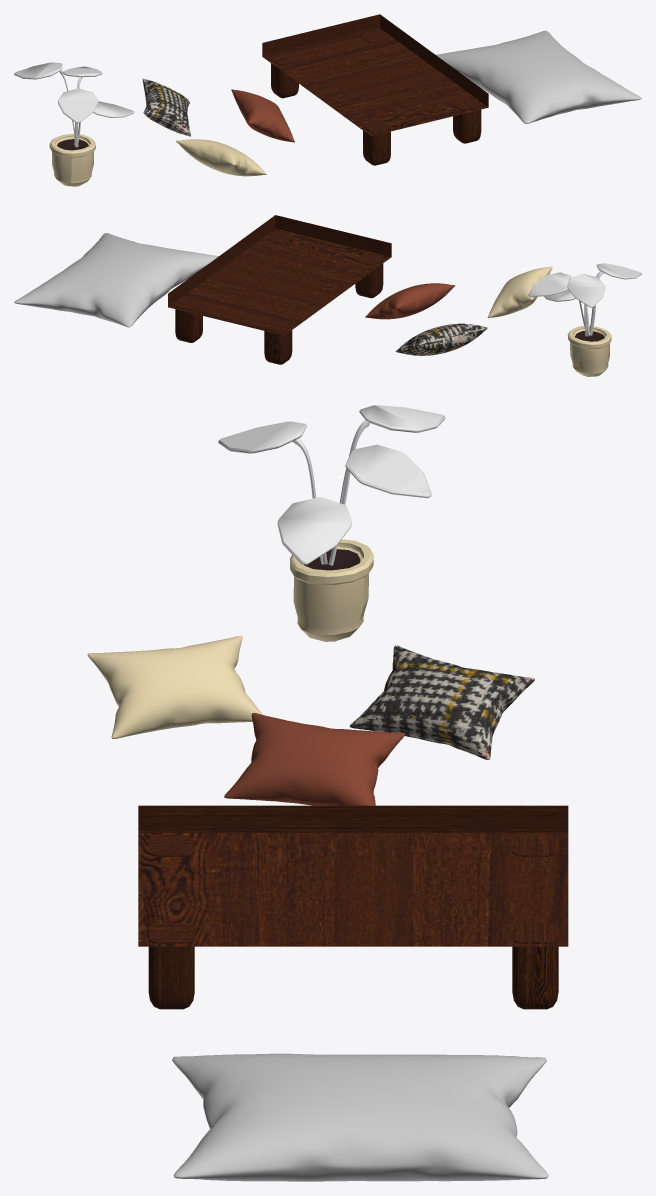
Rendered from package-salonchill.fbx.
3 views of the same model, one above another, from view 1: azimuth 30°, elevation 25°; view 2: azimuth 150°, elevation 25°; view 3: azimuth 270°, elevation 25° (orthographic). The views are drawn at different scales.
Parts seen in each view (by area): view 1: table, gros coussin, BézierCurve.004, coussin2, coussin3, coussin; view 2: table, gros coussin, BézierCurve.004, coussin, coussin3, coussin2; view 3: table, gros coussin, BézierCurve.004, coussin2, coussin, coussin3.
Part boxes in pixels (x1,y1,x2,y2): table: (262,14,488,165); gros coussin: (435,30,641,123); BézierCurve.004: (14,62,134,186); coussin2: (176,139,266,176); coussin3: (142,78,190,136); coussin: (231,89,294,142); table: (168,215,391,364); gros coussin: (14,233,218,327); BézierCurve.004: (528,263,641,376); coussin: (365,283,455,319); coussin3: (395,323,487,355); coussin2: (487,266,552,318); table: (138,805,568,1009); gros coussin: (172,1053,548,1181); BézierCurve.004: (218,405,445,641); coussin2: (87,635,262,738); coussin: (224,713,404,805); coussin3: (349,645,534,759).
Bounding box in the file's own units: 477 × 115 × 179.
